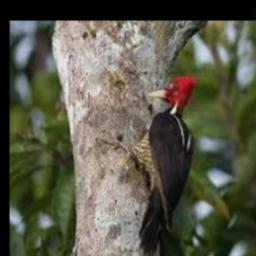Woodpecker: (99, 74, 196, 256)
